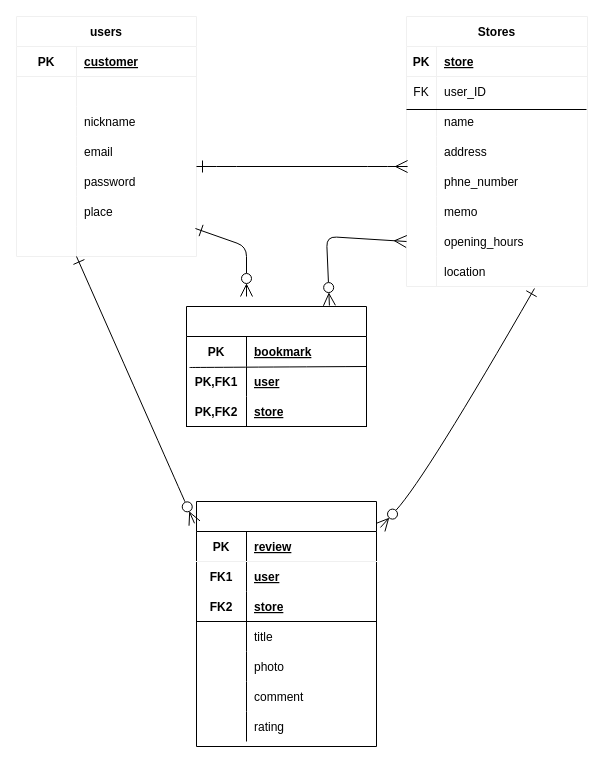
Some shapes in this 604 by 763 pixel diagram are drawn without their labels. The shapes that lost their labels are listed below. From the top down, each one's box as (x1, y1, x2, y2) in pixels, then its label:
(186, 306, 366, 426): Bookmarks
(196, 500, 376, 746): Reviews
